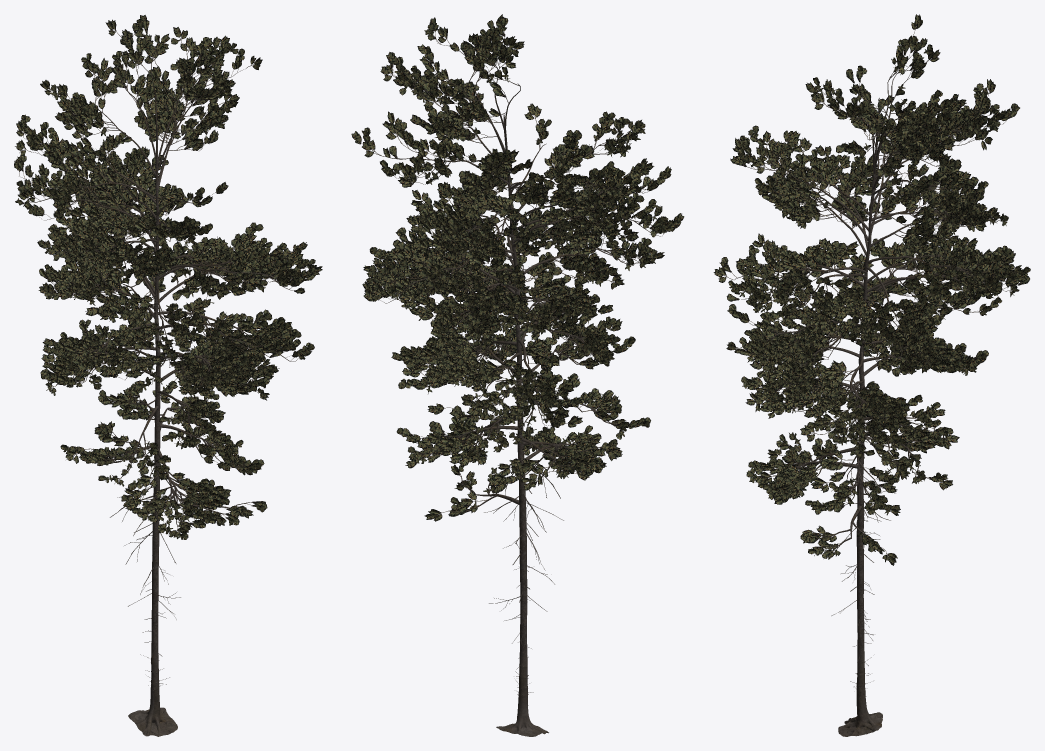
Rendered from pine_tree_01_a_LOD2_1k.gltf.
3 views of the same model, side by side, from view 1: azimuth 30°, elevation 25°; view 2: azimuth 150°, elevation 25°; view 3: azimuth 270°, elevation 25° (orthographic). The views are drawn at different scales.
Visible parts, largest first — view 1: pine_tree_01_a_LOD2; view 2: pine_tree_01_a_LOD2; view 3: pine_tree_01_a_LOD2.
Boxes of the visible parts, left/top/right/bottom form: pine_tree_01_a_LOD2: left=14, top=15, right=322, bottom=736; pine_tree_01_a_LOD2: left=351, top=14, right=684, bottom=736; pine_tree_01_a_LOD2: left=713, top=14, right=1030, bottom=736.
Bounding box in the file's own units: 7.6 × 20.4 × 8.3.
Materials: 4 (4 with a texture image).
